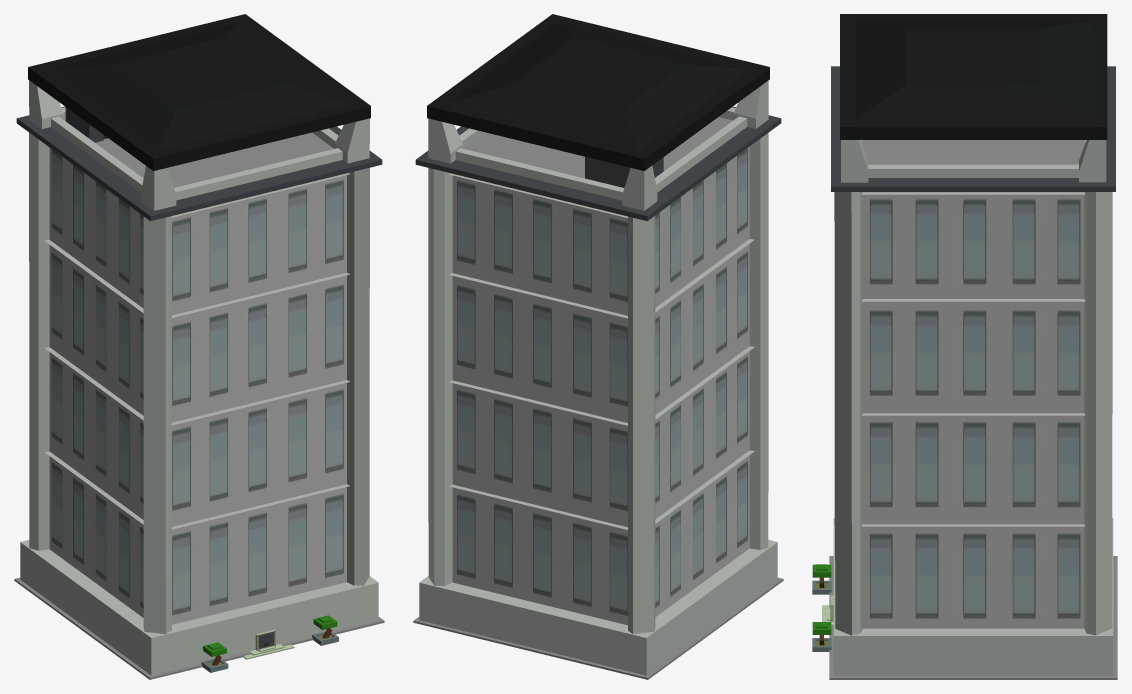
The model's file is university_3.glb.
The picture shows the model from 3 angles, left to right: view 1: azimuth 30°, elevation 25°; view 2: azimuth 150°, elevation 25°; view 3: azimuth 270°, elevation 25°; orthographic projection. The views are drawn at different scales.
Visible parts, largest first — view 1: Sky Scraper Pilars; view 2: Sky Scraper Pilars; view 3: Sky Scraper Pilars.
Part boxes in pixels (left/top/right/bottom): Sky Scraper Pilars: left=14, top=14, right=384, bottom=679; Sky Scraper Pilars: left=413, top=14, right=783, bottom=679; Sky Scraper Pilars: left=812, top=14, right=1117, bottom=679.
Bounding box in the file's own units: 0.6156 × 1.32 × 0.6519.
1 material, 1 textured.
